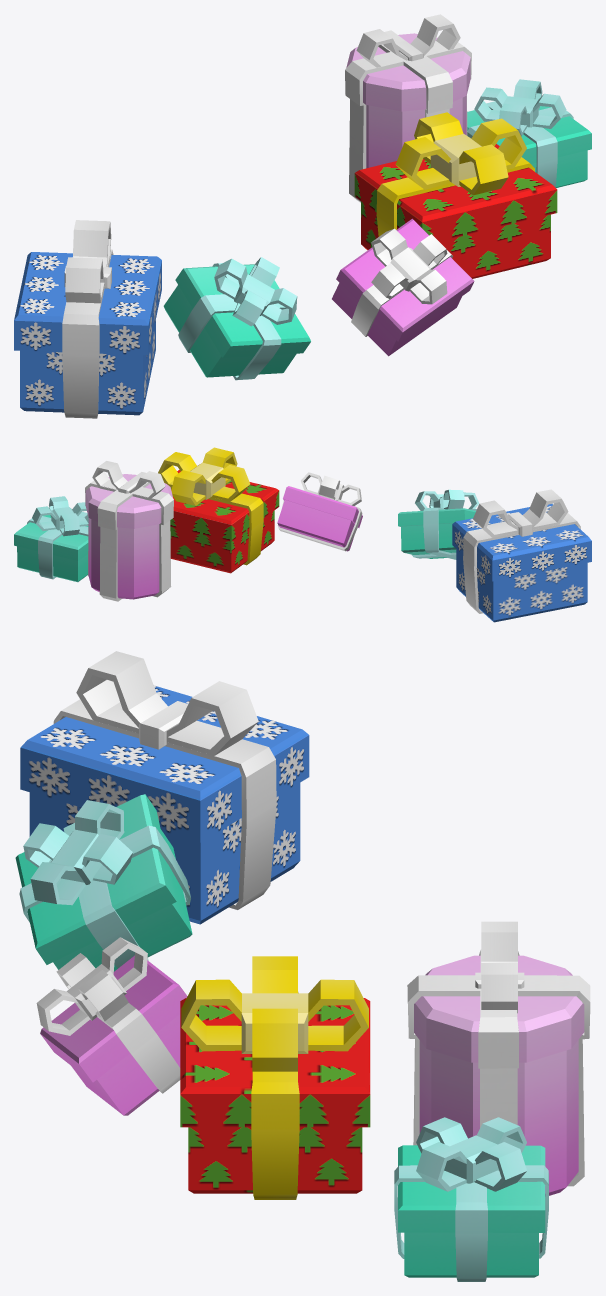
File: Present.obj
The picture shows the model from 3 angles, top to bottom: view 1: azimuth 30°, elevation 25°; view 2: azimuth 150°, elevation 25°; view 3: azimuth 270°, elevation 25°; orthographic projection. The views are drawn at different scales.
Parts seen in each view (by area): view 1: Christmas_Present_02_Mesh.009; view 2: Christmas_Present_02_Mesh.009; view 3: Christmas_Present_02_Mesh.009.
Part boxes in pixels (x1=…): Christmas_Present_02_Mesh.009: x1=14, y1=14, x2=591, y2=418; Christmas_Present_02_Mesh.009: x1=14, y1=447, x2=591, y2=622; Christmas_Present_02_Mesh.009: x1=15, y1=651, x2=590, y2=1281.
Bounding box in the file's own units: 3.58 × 0.9156 × 1.88.
